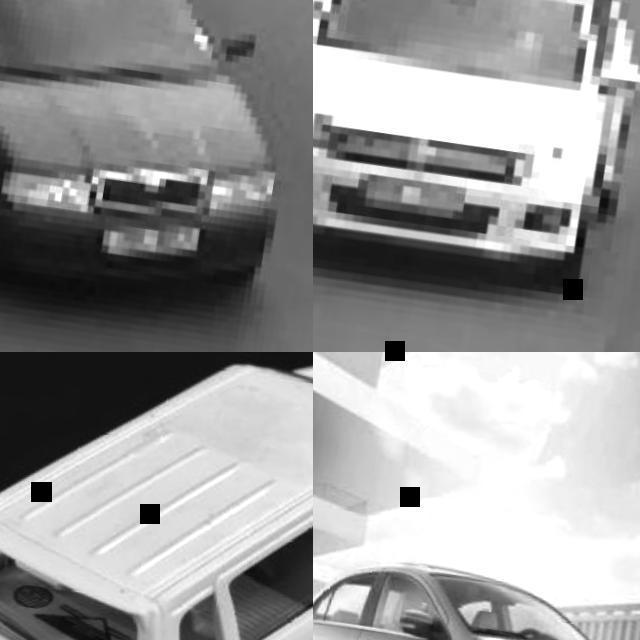car: (2, 0, 278, 289)
